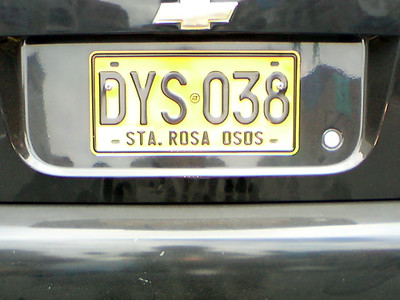placa_carro: (83, 43, 312, 172)
